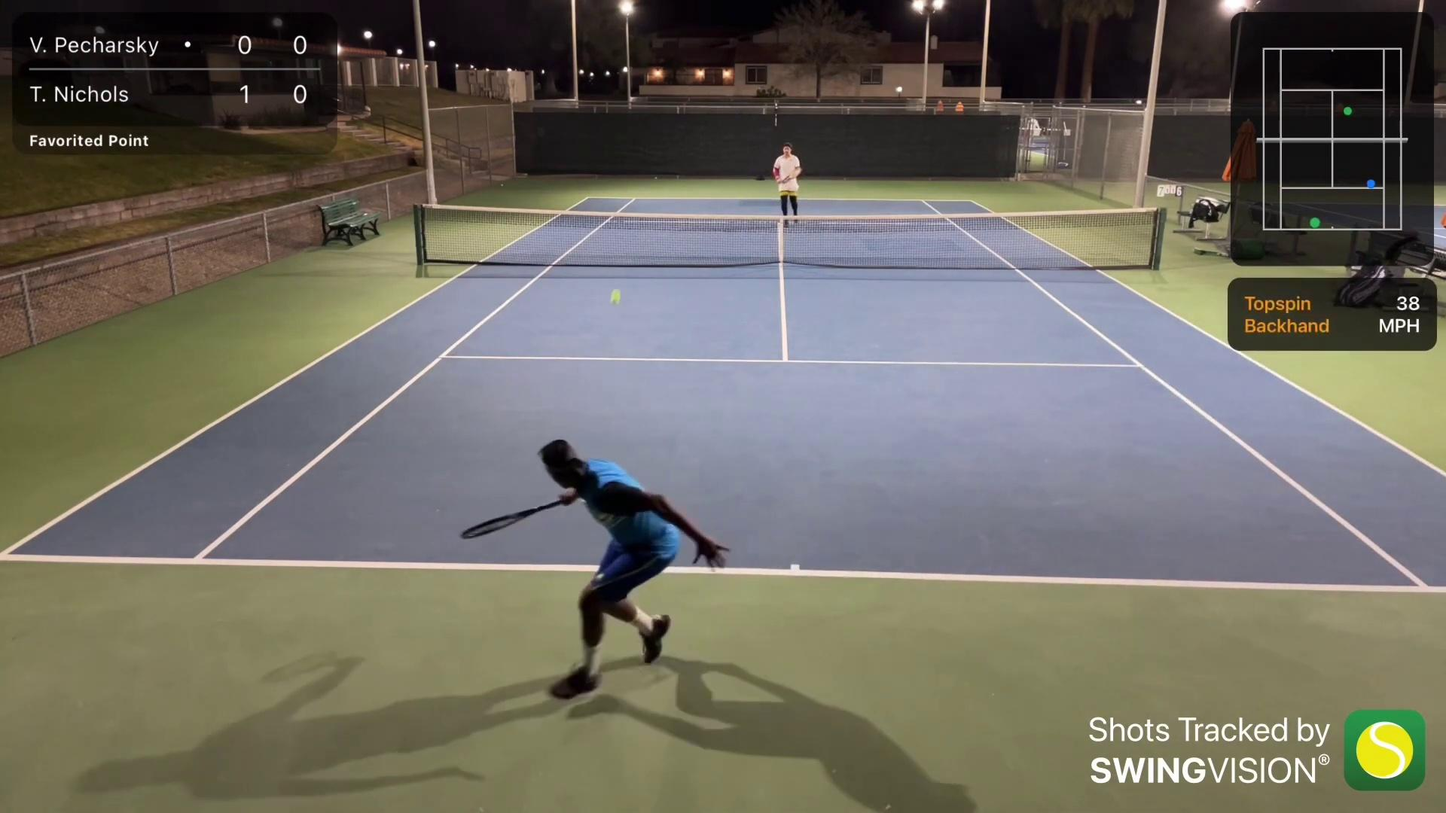ball: (607, 290, 625, 305)
